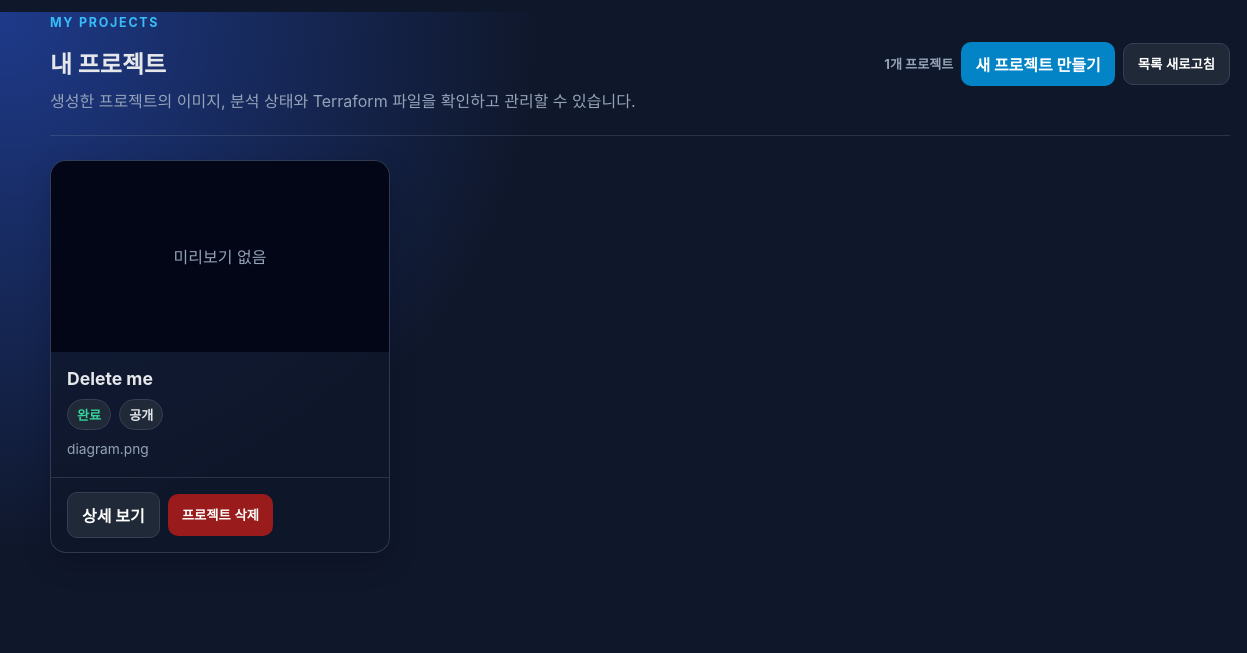
keeps the card and presents a safe error when deletion fails
The width and height of the screenshot is (1247, 653).
Expected: the heading "Delete me" is shown, [67,368,153,388]
What coordinates should you click on to do the following:
click the button with aria-label "Delete me 프로젝트 삭제"
I would click on:
 (220, 515)
Its box is [168,494,273,536].
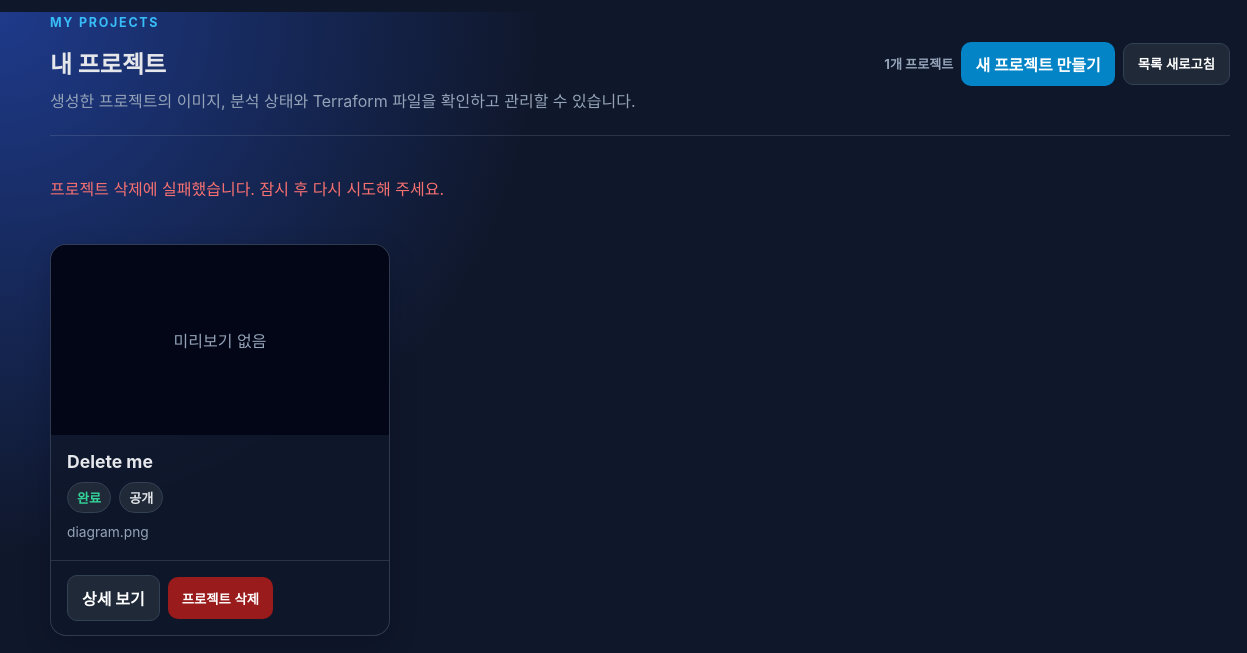
Expected: the heading "Delete me" is shown, [67,451,153,472]
Expected: the message reads "프로젝트 삭제에 실패했습니다. 잠시 후 다시 시도해 주세요.", [50,179,444,199]
